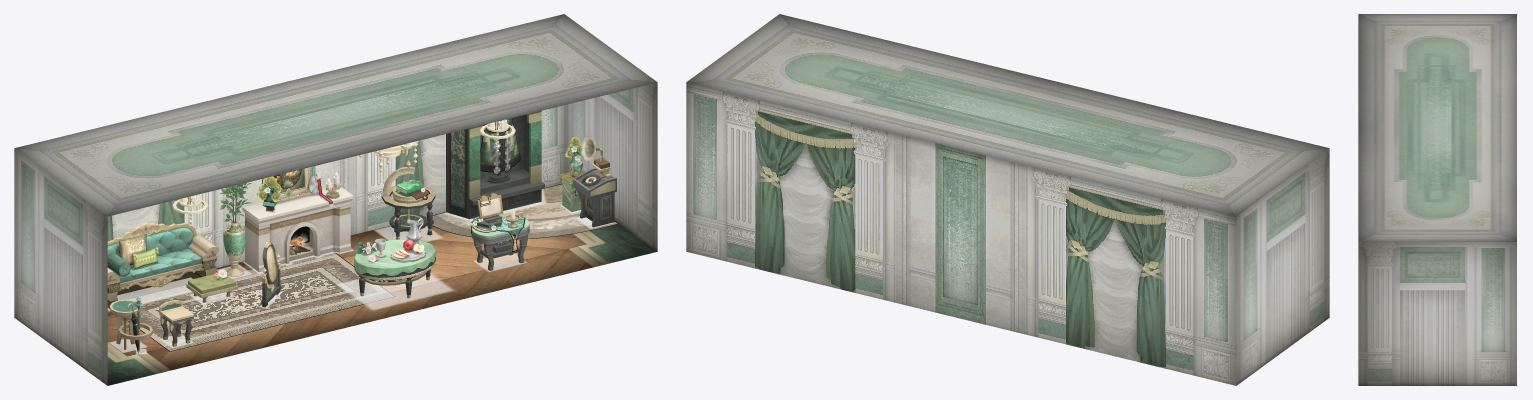
File: tsarPalace.glb
3 views of the same model, side by side, from view 1: azimuth 30°, elevation 25°; view 2: azimuth 150°, elevation 25°; view 3: azimuth 270°, elevation 25° (orthographic). The views are drawn at different scales.
Visible parts, largest first — view 1: ROOM_room, ROOM_floor, furni_tsarPalace_carpet_01, furni_tsarPalace_fireplace_01, furni_tsarPalace_wardrobe_01, furni_tsarPalace_sofa_01, furni_tsarPalace_carpet_02, furni_tsarPalace_coffeeTable_02, furni_tsarPalace_recordplayer_01, furni_tsarPalace_table_01, shadow_01.009, furni_tsarPalace_sofa_02 (+16 smaller); view 2: ROOM_room, ROOM_LDoor; view 3: ROOM_room, ROOM_RDoor.
Part boxes in pixels (<box>): ROOM_room: <box>14,14,657,385</box>; ROOM_floor: <box>107,220,657,385</box>; furni_tsarPalace_carpet_01: <box>127,252,394,351</box>; furni_tsarPalace_fireplace_01: <box>242,167,353,272</box>; furni_tsarPalace_wardrobe_01: <box>446,111,544,219</box>; furni_tsarPalace_sofa_01: <box>107,222,218,308</box>; furni_tsarPalace_carpet_02: <box>425,184,618,239</box>; furni_tsarPalace_coffeeTable_02: <box>354,239,435,285</box>; furni_tsarPalace_recordplayer_01: <box>572,135,616,227</box>; furni_tsarPalace_table_01: <box>471,193,529,270</box>; shadow_01.009: <box>337,273,453,310</box>; furni_tsarPalace_sofa_02: <box>108,247,204,291</box>; ROOM_room: <box>686,14,1329,385</box>; ROOM_LDoor: <box>1297,251,1315,341</box>; ROOM_room: <box>1358,14,1516,385</box>; ROOM_RDoor: <box>1381,320,1414,385</box>.
Bounding box in the file's own units: 7.48 × 2.2 × 2.22.
7 materials, 7 textured.
